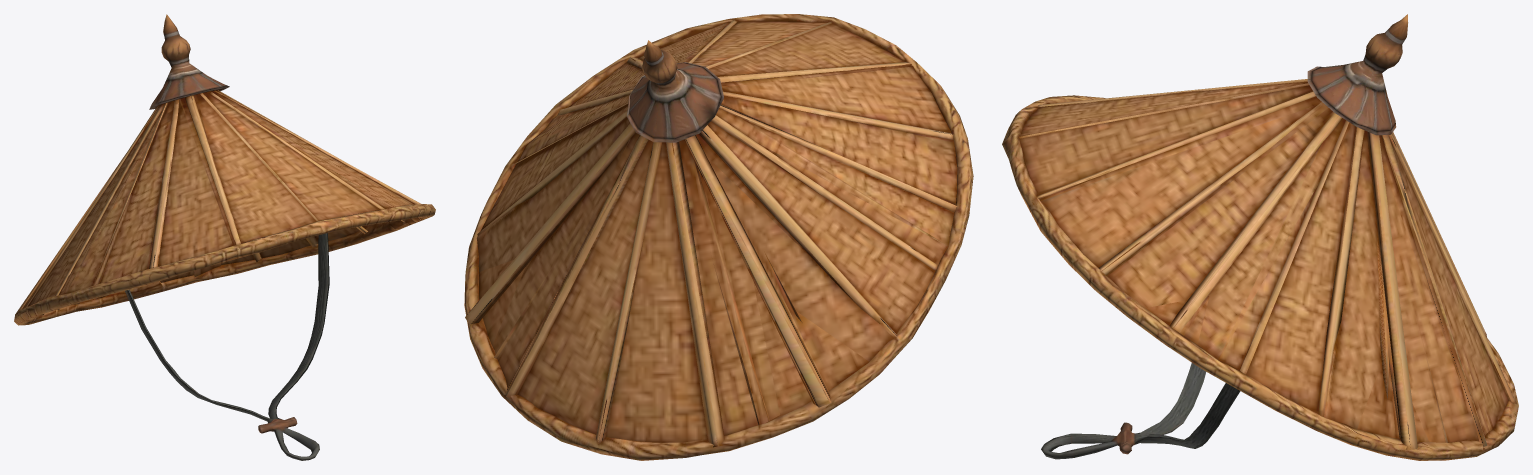
File: salakot.glb
3 renders of one model, left to right at view 1: azimuth 30°, elevation 25°; view 2: azimuth 150°, elevation 25°; view 3: azimuth 270°, elevation 25°, orthographic. The views are drawn at different scales.
Visible parts, largest first — view 1: geometry_0; view 2: geometry_0; view 3: geometry_0.
Boxes of the visible parts, bbox=[...] form: geometry_0: bbox=[14, 14, 435, 460]; geometry_0: bbox=[464, 14, 973, 460]; geometry_0: bbox=[1002, 14, 1518, 460].
Bounding box in the file's own units: 1 × 0.8953 × 0.9564.
1 material, 1 textured.
